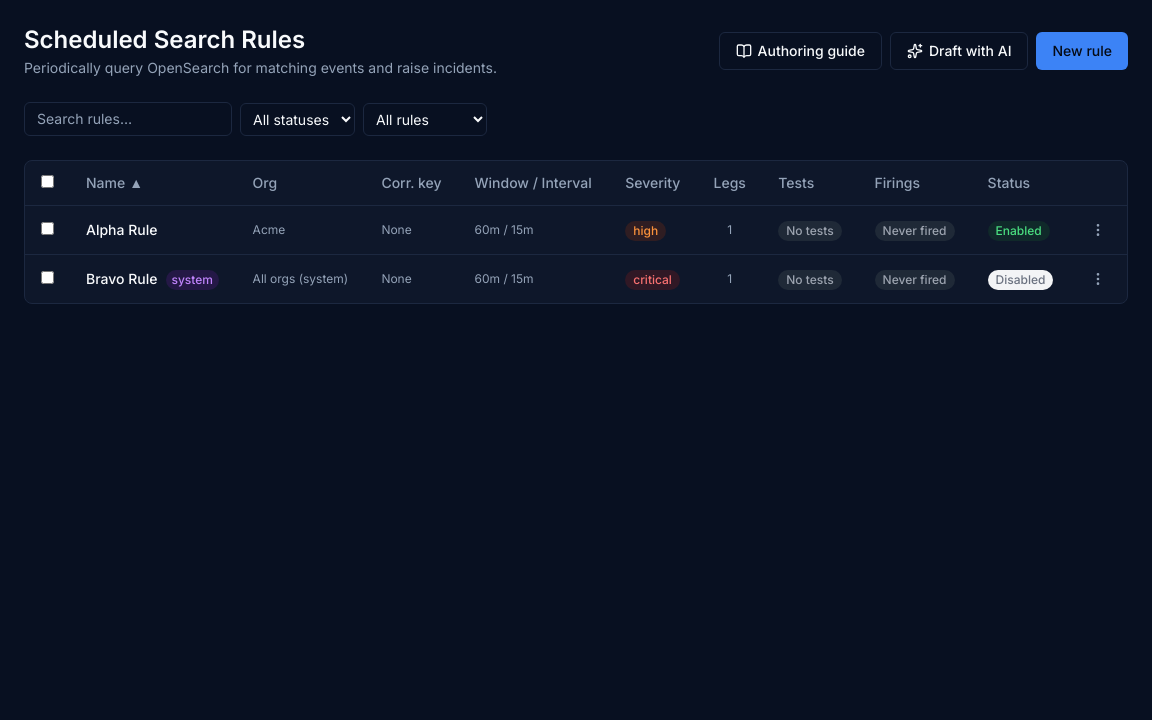
Scenario: SearchRulesAdmin — list affordances › renders the kebab menu outside the overflow-hidden table wrapper so it is not clipped (#590)
Expected: the button "Alpha Rule" is shown, [86,220,158,240]
Click the button named "Actions" in the row of "All orgs (system)". click: (1098, 279)
box: [1086,267,1110,291]
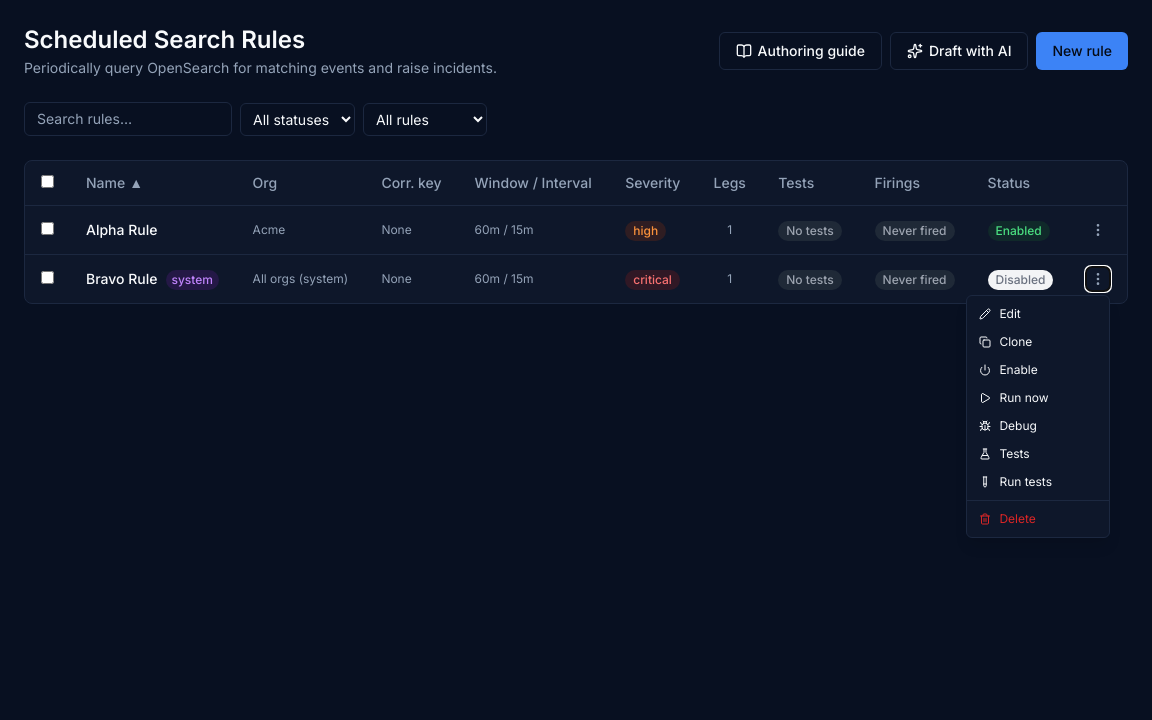
Expected: the button "Delete" is shown, [967,505,1109,533]
// Outside click still closes it.
Click the element that starts with "Scheduled Search Rules". click: (576, 164)
box: [0,0,1151,328]
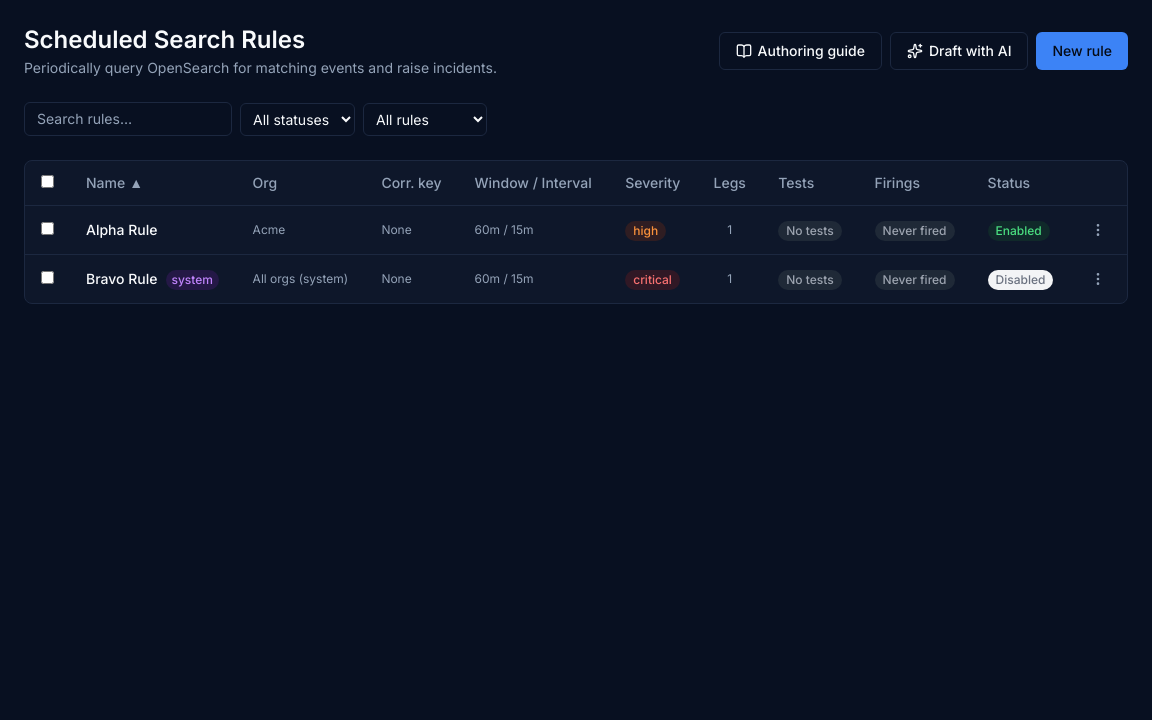
Expected: the button "Delete" is gone
